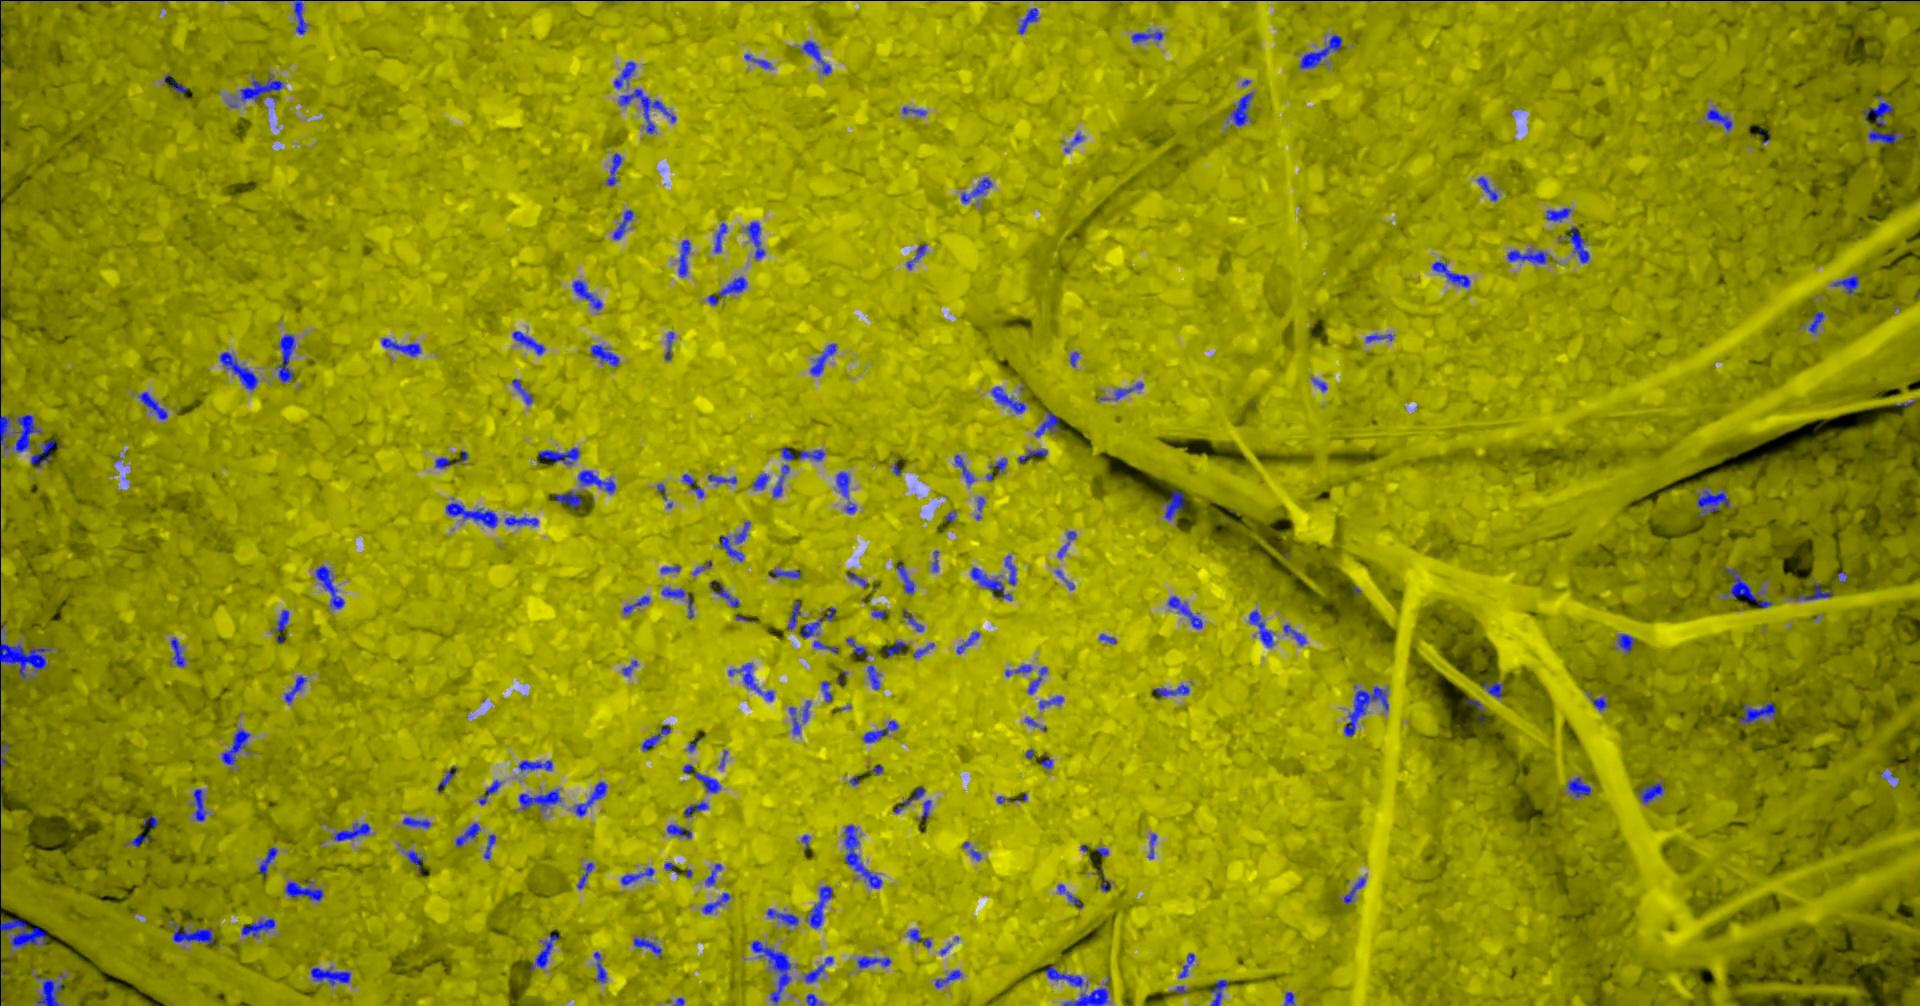ant: (0, 622, 50, 680), (772, 446, 824, 497), (618, 88, 676, 133), (750, 940, 790, 1005), (843, 824, 881, 888), (1343, 686, 1388, 735), (1723, 567, 1771, 607), (728, 662, 773, 700), (0, 414, 41, 452), (0, 915, 46, 948), (218, 351, 257, 390), (1299, 34, 1341, 69), (970, 567, 1011, 600), (444, 502, 497, 527), (314, 565, 344, 608), (720, 521, 750, 561), (706, 276, 745, 305), (239, 76, 283, 102), (1167, 596, 1203, 627), (682, 763, 720, 793), (530, 931, 559, 969), (806, 885, 832, 929), (574, 781, 606, 815), (799, 607, 836, 636), (1431, 260, 1470, 287), (221, 728, 250, 763), (662, 587, 693, 619), (801, 39, 830, 74), (276, 333, 295, 382), (518, 789, 561, 810), (1044, 965, 1087, 987), (990, 386, 1025, 413), (1695, 489, 1730, 516), (1864, 95, 1893, 126), (571, 279, 602, 309), (1738, 701, 1775, 725), (891, 786, 924, 813), (577, 470, 615, 493), (1250, 608, 1272, 647), (171, 923, 213, 944), (960, 177, 992, 203), (809, 343, 836, 375), (1062, 987, 1109, 1005), (138, 391, 168, 419), (30, 439, 58, 467), (36, 976, 62, 1005), (1096, 382, 1143, 399), (1792, 580, 1832, 600), (512, 330, 543, 354), (1230, 91, 1253, 124), (381, 337, 420, 356), (803, 956, 832, 982), (862, 720, 897, 742), (745, 221, 764, 259), (284, 882, 323, 901), (310, 967, 350, 984), (333, 822, 370, 841), (537, 447, 579, 464), (1570, 226, 1589, 262), (641, 727, 670, 749), (1164, 488, 1185, 520), (241, 918, 274, 937), (954, 453, 974, 484), (714, 583, 739, 607), (477, 779, 502, 804), (455, 822, 479, 847), (1705, 108, 1732, 131), (590, 344, 618, 366), (284, 674, 306, 702), (1343, 876, 1365, 904), (702, 892, 730, 913), (612, 210, 632, 239), (1034, 412, 1058, 436), (613, 61, 635, 88), (1506, 249, 1547, 263), (436, 450, 467, 467), (1867, 128, 1903, 144), (632, 937, 662, 956), (510, 379, 533, 403), (620, 868, 653, 884), (897, 563, 914, 593), (1027, 666, 1046, 694), (258, 847, 277, 875), (766, 908, 797, 925), (682, 473, 703, 497), (1017, 8, 1037, 33), (1638, 782, 1663, 803), (905, 243, 924, 269), (1057, 531, 1076, 558), (622, 594, 649, 614), (606, 152, 621, 185), (163, 74, 190, 91), (554, 490, 582, 508), (1476, 177, 1497, 199), (1283, 624, 1305, 645), (956, 631, 979, 653), (846, 636, 867, 659), (1566, 776, 1590, 796), (293, 0, 307, 34), (1832, 276, 1859, 293), (677, 239, 690, 276), (1152, 683, 1189, 696), (1017, 448, 1048, 464), (192, 788, 206, 821), (907, 929, 931, 948), (437, 766, 455, 791), (935, 969, 960, 987), (1210, 979, 1228, 1005), (577, 862, 593, 889), (903, 610, 923, 631), (856, 955, 890, 968), (743, 53, 771, 69), (276, 608, 288, 641), (712, 222, 726, 251), (170, 636, 184, 666), (1465, 699, 1483, 721), (593, 951, 606, 982), (705, 862, 721, 885), (787, 600, 800, 629), (1178, 953, 1194, 977), (1617, 633, 1634, 653), (1482, 681, 1503, 697), (405, 850, 422, 871), (836, 471, 850, 497), (683, 801, 709, 815), (665, 824, 691, 838), (1131, 30, 1162, 42), (504, 514, 538, 525), (518, 760, 552, 770), (1545, 207, 1570, 221), (846, 572, 867, 587), (1037, 695, 1063, 708), (912, 643, 935, 657), (789, 706, 800, 734), (1808, 311, 1823, 332), (1004, 555, 1015, 586), (770, 568, 800, 578), (1004, 664, 1031, 676), (885, 641, 907, 655), (707, 473, 737, 483), (750, 473, 768, 489), (483, 835, 495, 857), (403, 817, 430, 827), (813, 640, 837, 652), (989, 457, 1006, 474), (0, 741, 10, 767), (867, 666, 879, 688), (664, 332, 673, 359), (1590, 696, 1608, 710), (820, 681, 832, 702), (919, 799, 931, 821), (1365, 333, 1392, 342), (902, 105, 924, 116), (130, 835, 149, 846), (622, 661, 637, 674), (142, 815, 157, 828), (805, 993, 822, 1005), (803, 700, 810, 721), (660, 564, 681, 572), (1283, 991, 1293, 1005)
